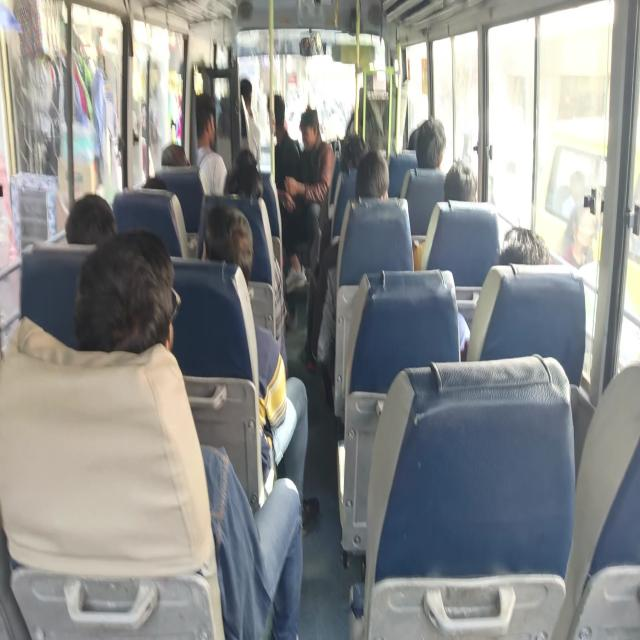person: (93, 256, 168, 341), (496, 218, 552, 269), (203, 208, 249, 258), (68, 195, 121, 234), (412, 115, 450, 167), (359, 163, 391, 220), (187, 96, 217, 148), (155, 136, 197, 173), (265, 91, 296, 141), (137, 168, 181, 200), (441, 162, 481, 195), (225, 167, 262, 200), (337, 134, 371, 167), (232, 74, 256, 111), (298, 117, 322, 145), (359, 58, 376, 88), (230, 150, 258, 166)
